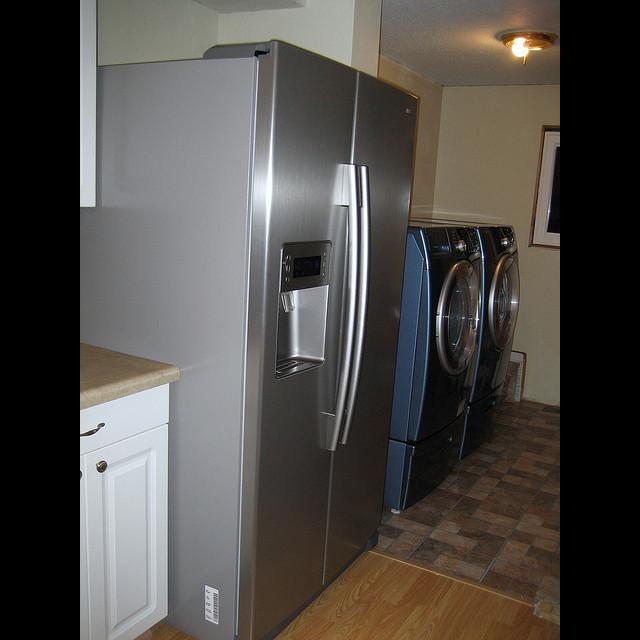Refrigerator: (81, 41, 422, 629)
